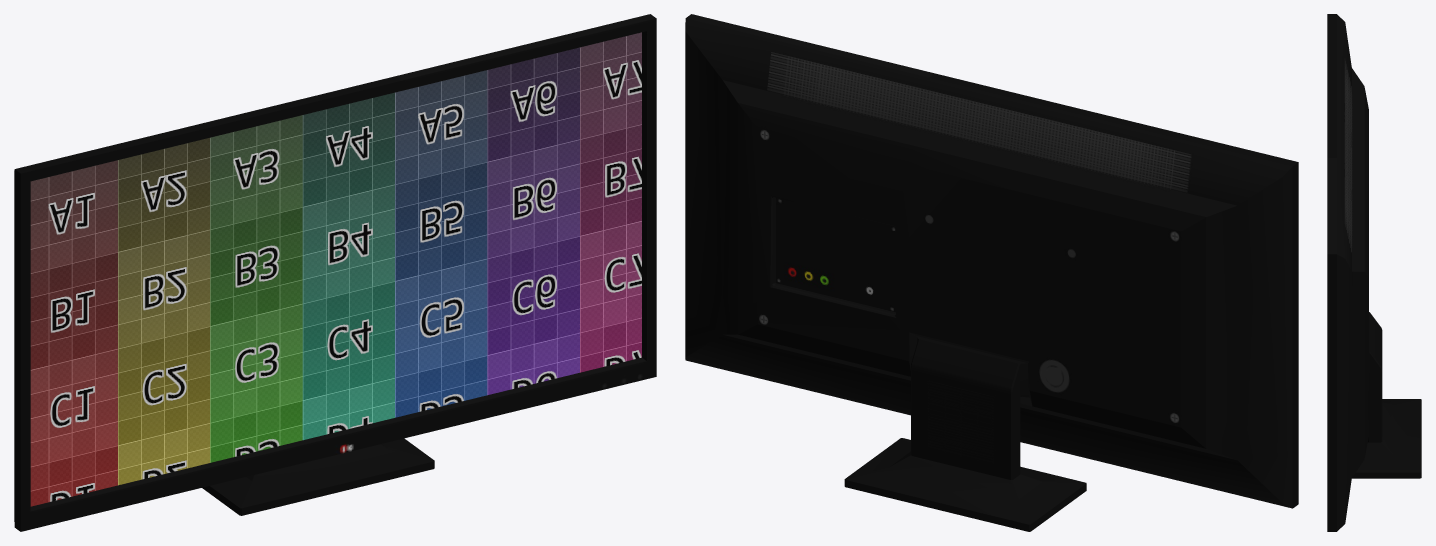
The model's file is lcd_white.gltf.
3 renders of one model, left to right at view 1: azimuth 30°, elevation 25°; view 2: azimuth 150°, elevation 25°; view 3: azimuth 270°, elevation 25°, orthographic. The views are drawn at different scales.
Parts seen in each view (by area): view 1: tv_screen, led_tv_phong1_0.001; view 2: led_tv_phong1_0.001; view 3: led_tv_phong1_0.001.
Boxes of the visible parts, x1,y1,x2,y2 form: tv_screen: [30, 32, 641, 506]; led_tv_phong1_0.001: [14, 14, 656, 531]; led_tv_phong1_0.001: [685, 14, 1298, 531]; led_tv_phong1_0.001: [1327, 14, 1421, 531].
Bounding box in the file's own units: 13 × 7.75 × 2.15.
2 materials, 2 textured.
